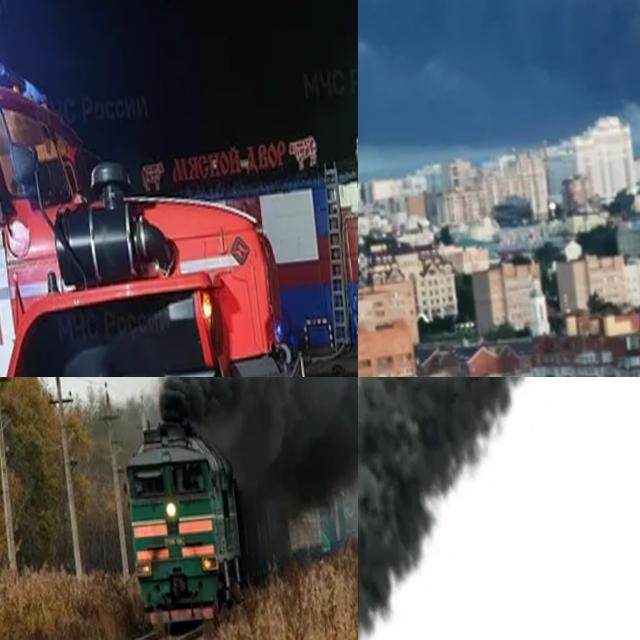smoke: (358, 377, 640, 640), (358, 0, 640, 208), (132, 377, 358, 516)
